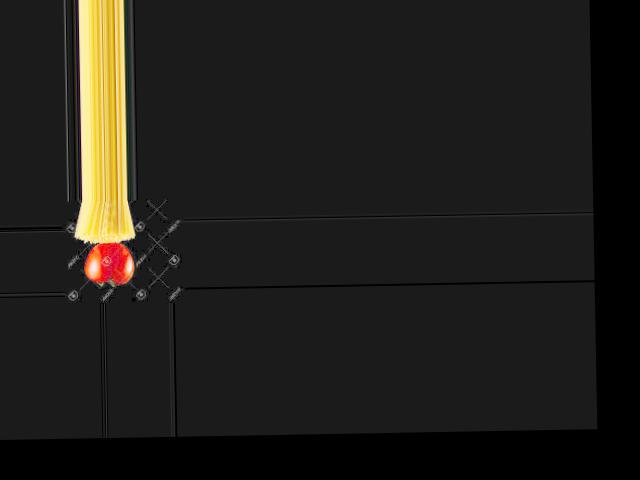tomato: (84, 241, 133, 284)
